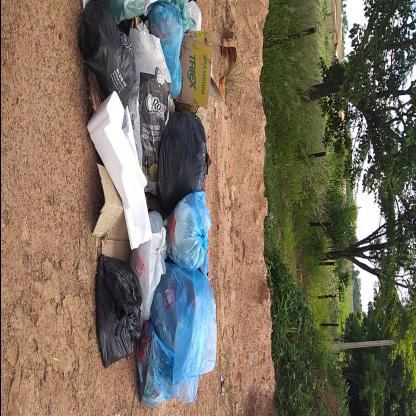lixo: (92, 0, 206, 365)
